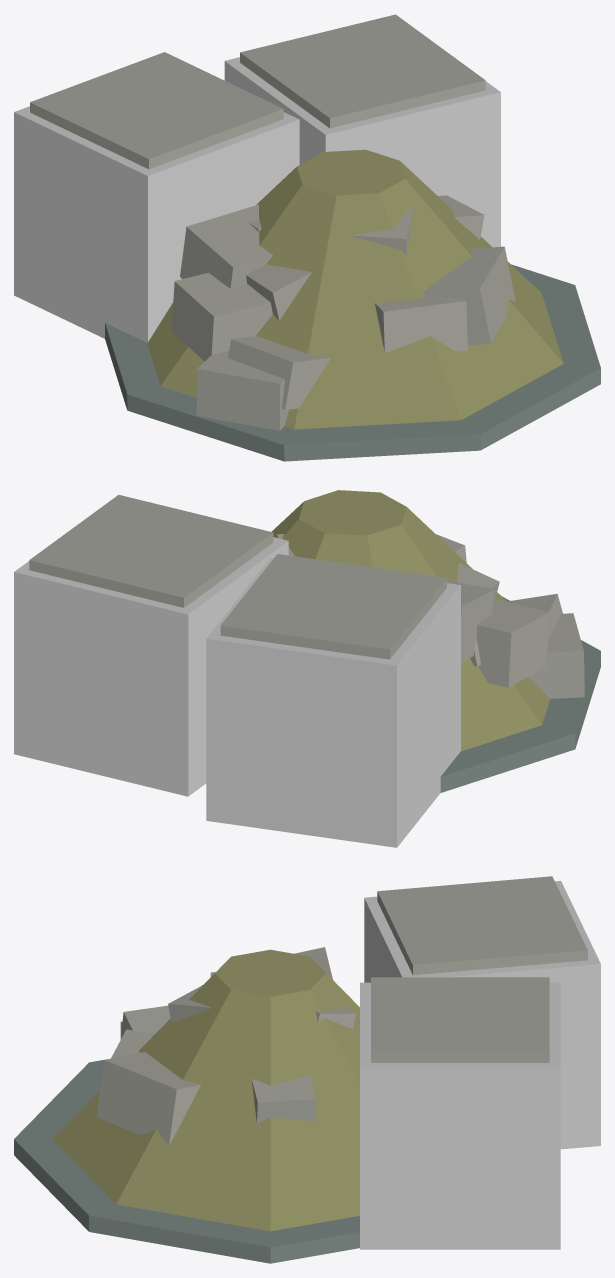
The model's file is SM_MontonEscombro_v4_Sacas_LOD0.fbx.
The picture shows the model from 3 angles, top to bottom: view 1: azimuth 30°, elevation 25°; view 2: azimuth 150°, elevation 25°; view 3: azimuth 270°, elevation 25°; orthographic projection.
Visible parts, largest first — view 1: SM_monton_escombro_v4_LOD0; view 2: SM_monton_escombro_v4_LOD0; view 3: SM_monton_escombro_v4_LOD0.
Part boxes in pixels (x1=…): SM_monton_escombro_v4_LOD0: x1=14, y1=14, x2=600, y2=461; SM_monton_escombro_v4_LOD0: x1=14, y1=490, x2=600, y2=847; SM_monton_escombro_v4_LOD0: x1=14, y1=876, x2=600, y2=1263.
Size of the model in its own units: 2.3 by 0.95 by 2.63.
